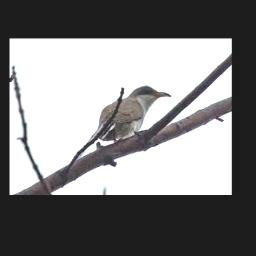Cuckoo: (95, 84, 170, 141)
